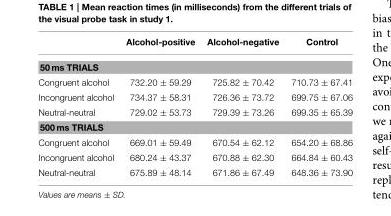table: (37, 37, 351, 176)
table column: (200, 37, 284, 176), (37, 37, 119, 176), (119, 37, 200, 176), (284, 37, 351, 176)
table column header: (37, 37, 351, 54)
table projected row header: (37, 54, 351, 74), (37, 119, 351, 134)
table row: (37, 54, 351, 74), (37, 37, 351, 54), (37, 74, 351, 89), (37, 89, 351, 104), (37, 104, 351, 119), (37, 119, 351, 134), (37, 134, 351, 149), (37, 149, 351, 164), (37, 164, 351, 176)
